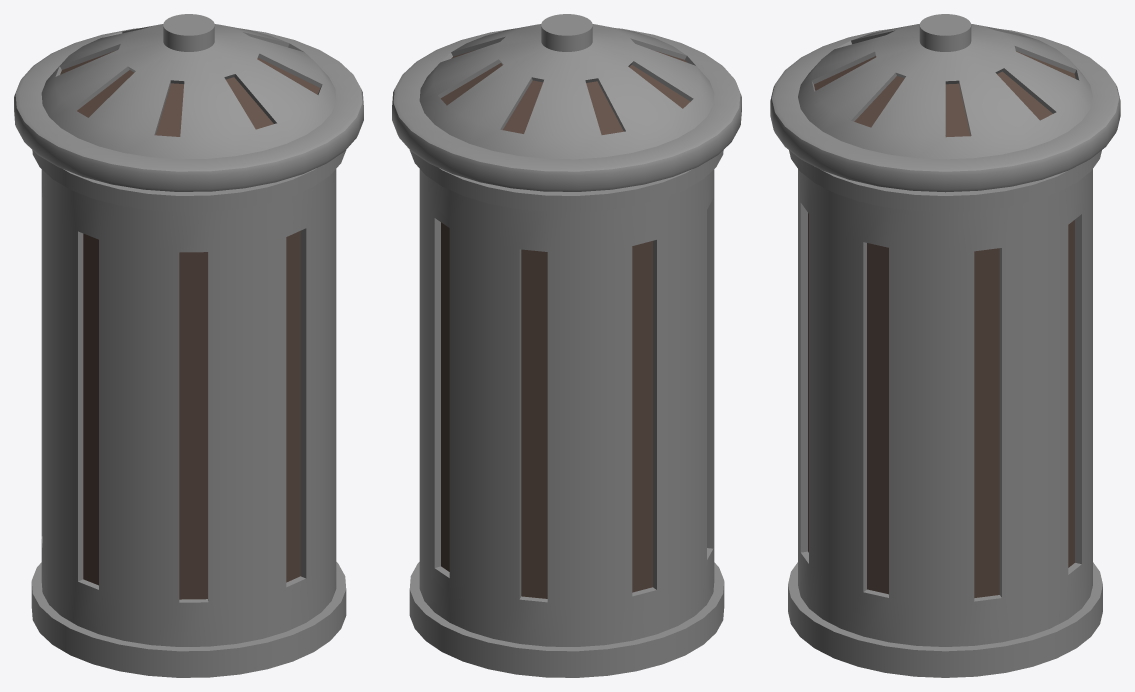
File: bin.fbx
The picture shows the model from 3 angles, left to right: view 1: azimuth 30°, elevation 25°; view 2: azimuth 150°, elevation 25°; view 3: azimuth 270°, elevation 25°; orthographic projection.
Parts seen in each view (by area): view 1: Circle, Circle.001, Circle.002; view 2: Circle, Circle.001, Circle.002; view 3: Circle, Circle.001, Circle.002.
Boxes of the visible parts, x1,y1,x2,y2 form: Circle: (14,14,363,677); Circle.001: (83,231,300,599); Circle.002: (60,50,320,136); Circle: (392,14,741,677); Circle.001: (441,222,652,598); Circle.002: (441,50,690,134); Circle: (770,14,1120,677); Circle.001: (808,213,1074,597); Circle.002: (814,51,1075,137).
Size of the model in its own units: 42.86 by 79.11 by 42.86.
